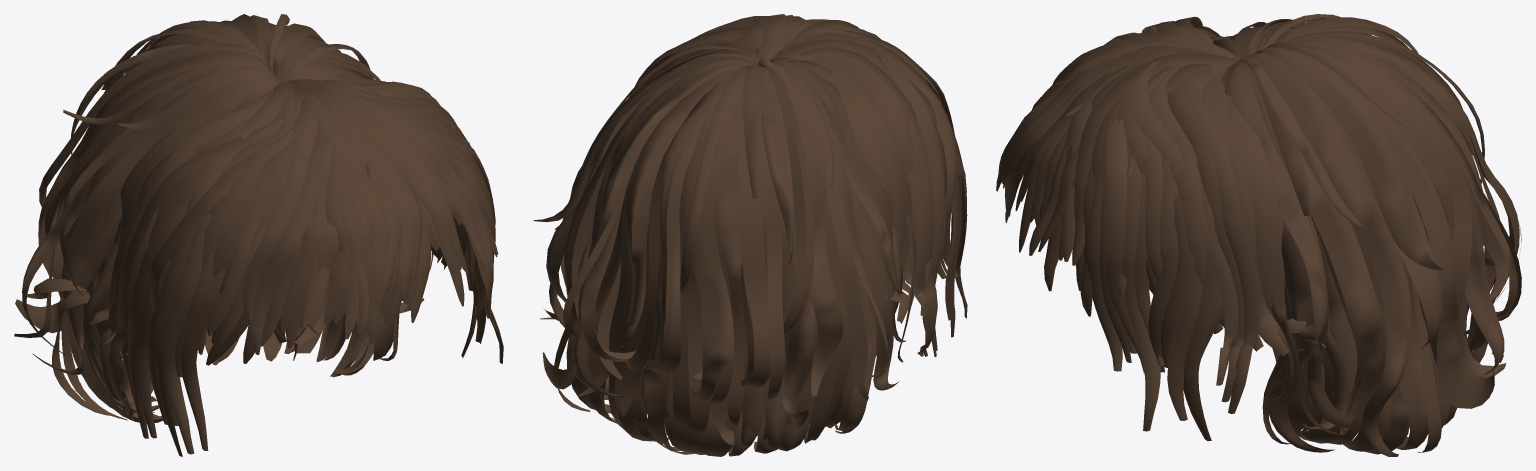
The model's file is medium-cut.glb.
3 views of the same model, side by side, from view 1: azimuth 30°, elevation 25°; view 2: azimuth 150°, elevation 25°; view 3: azimuth 270°, elevation 25° (orthographic). The views are drawn at different scales.
Parts seen in each view (by area): view 1: medium / supplied hairstyle; view 2: medium / supplied hairstyle; view 3: medium / supplied hairstyle.
Part boxes in pixels (x1,y1,x2,y2): medium / supplied hairstyle: (14,14,503,456); medium / supplied hairstyle: (533,14,967,456); medium / supplied hairstyle: (996,14,1521,456).
Bounding box in the file's own units: 0.2883 × 0.27 × 0.3389.
